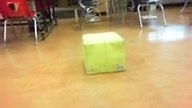cube: (81, 31, 126, 75)
